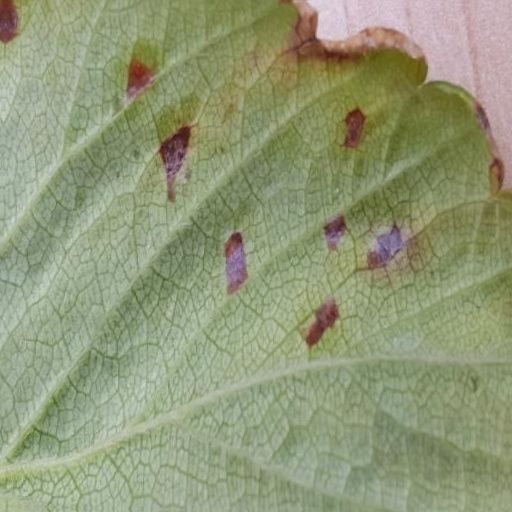Angular Leafspot: (0, 163, 506, 511)
